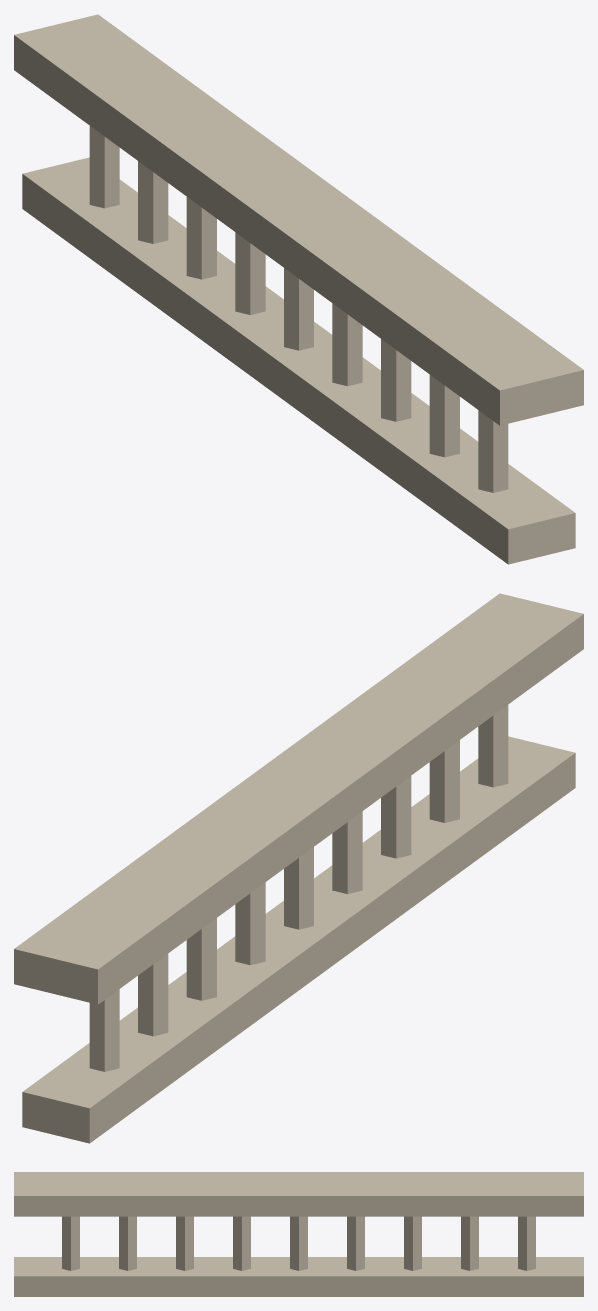
File: balustrade.glb
The picture shows the model from 3 angles, top to bottom: view 1: azimuth 30°, elevation 25°; view 2: azimuth 150°, elevation 25°; view 3: azimuth 270°, elevation 25°; orthographic projection. The views are drawn at different scales.
Visible parts, largest first — view 1: balustrade; view 2: balustrade; view 3: balustrade.
Part boxes in pixels (bbox=[...]): balustrade: bbox=[14, 14, 583, 564]; balustrade: bbox=[14, 593, 583, 1143]; balustrade: bbox=[14, 1172, 583, 1296].
Size of the model in its own units: 0.1 by 0.2 by 1.
